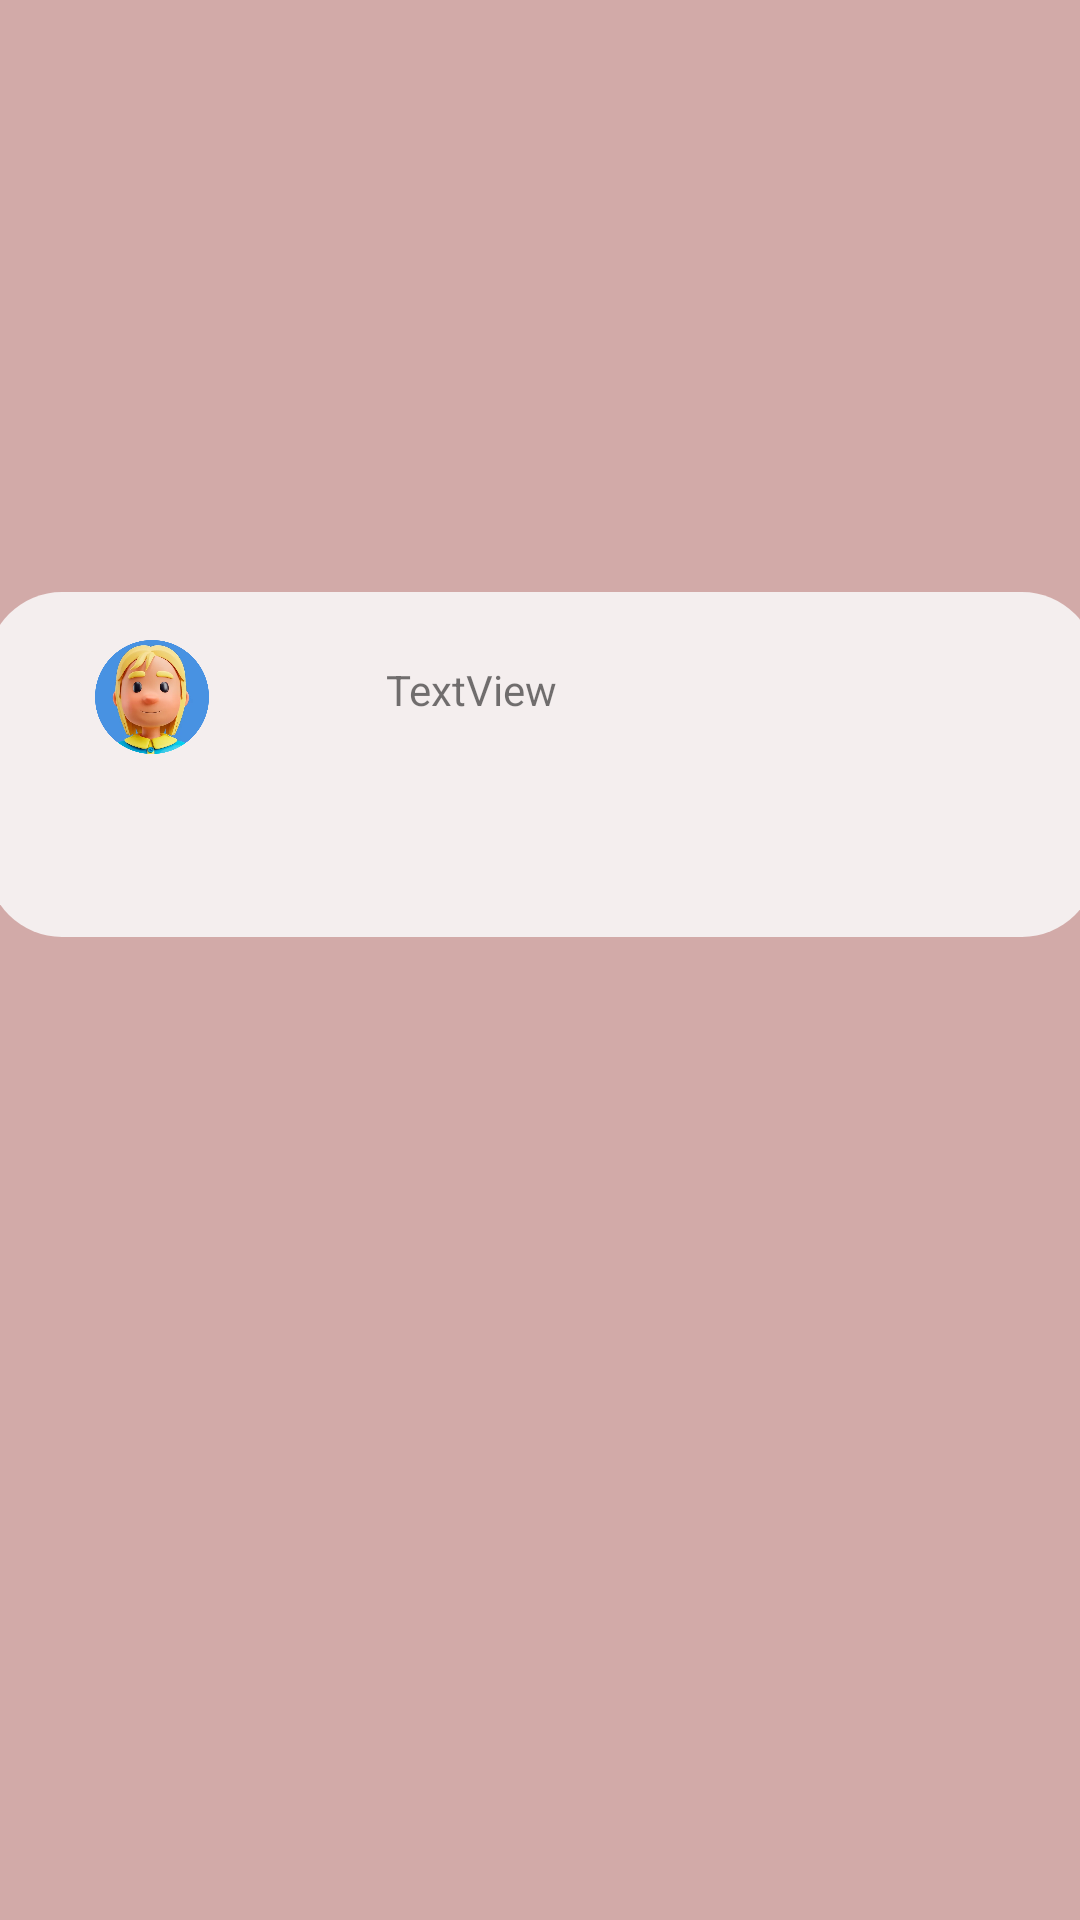

Named icons in this screenshot (1080w x 1920h) and their bounding boxes, (x1, y1, x2, y2):
profile: (95, 640, 209, 754)
